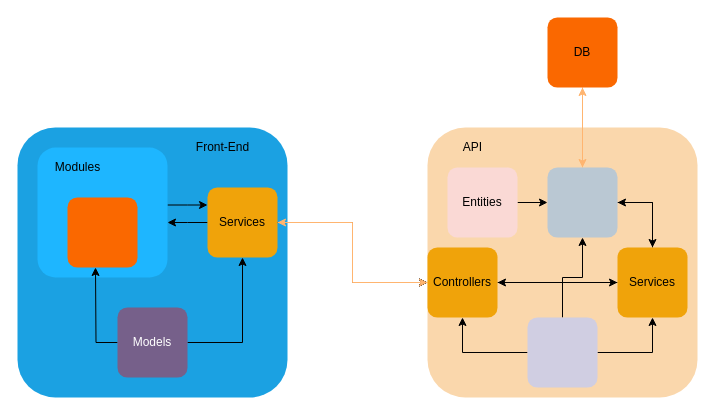
This 714x414 diagram has some shape labels left out. Each missing label, with the centre of its shape:
"Components" goes at point (102, 232).
"DTO" goes at point (562, 352).
"Repository" goes at point (582, 202).
